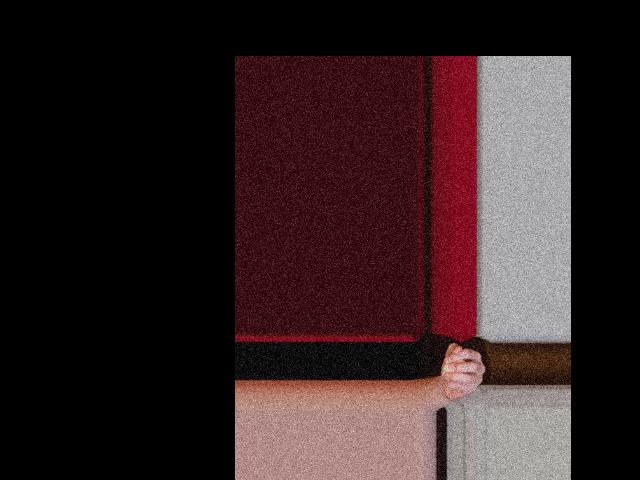egg: (443, 356, 466, 381)
